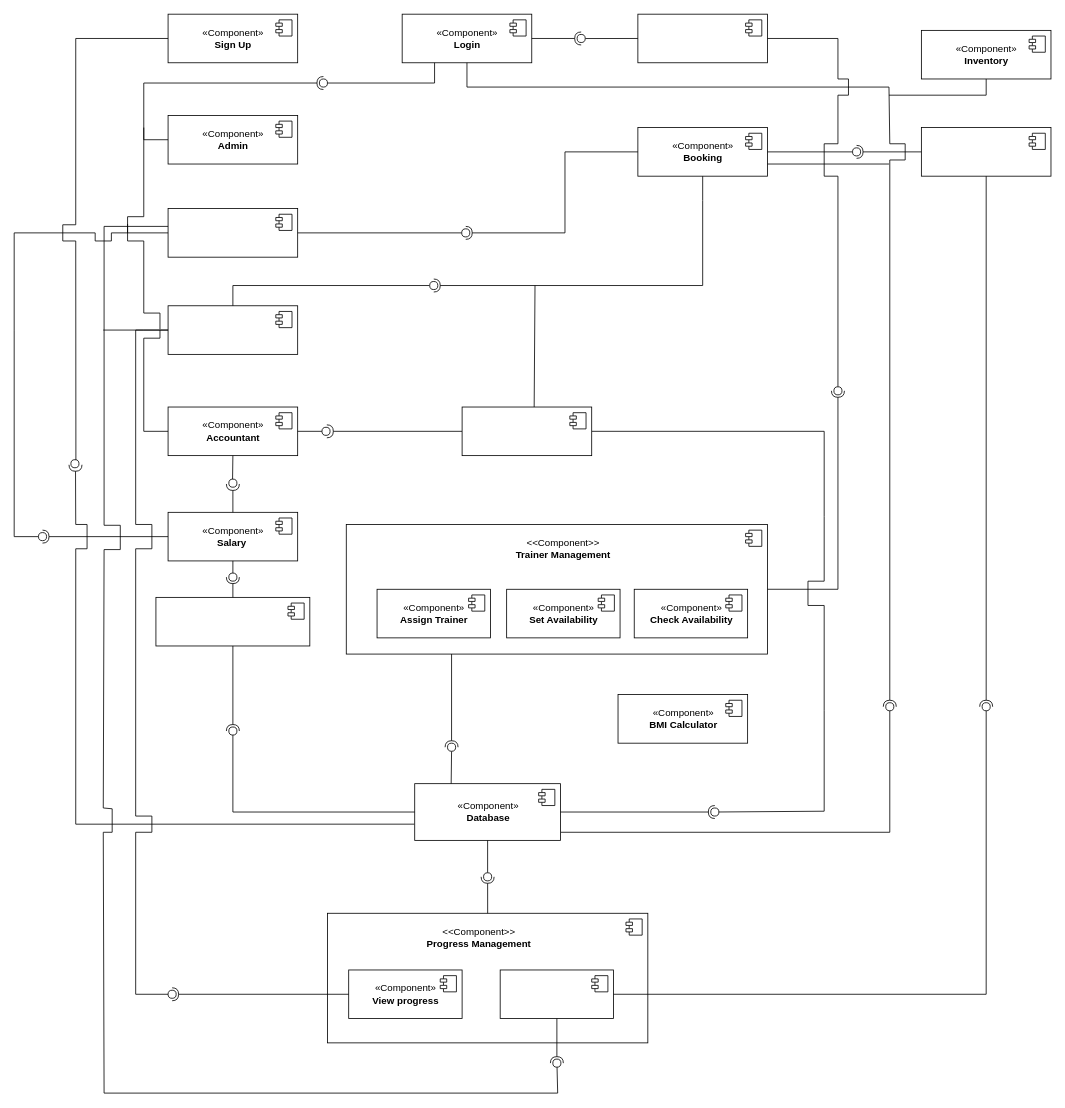
Image size: 1065x1108. Some labels were removed from this diagram. The centre of each missing label's shape, as x and y in pixels:
"«Component» Meal plan and schedule" goes at [556,994].
"«Component» Member" goes at [232,329].
"«Component» Notification" goes at [986,151].
"«Component» Online payment" goes at [526,431].
"«Component» Payment, Salary, Profit Report" goes at [232,621].
"«Component» Security" goes at [702,38].
"«Component» Trainer" goes at [232,232].
